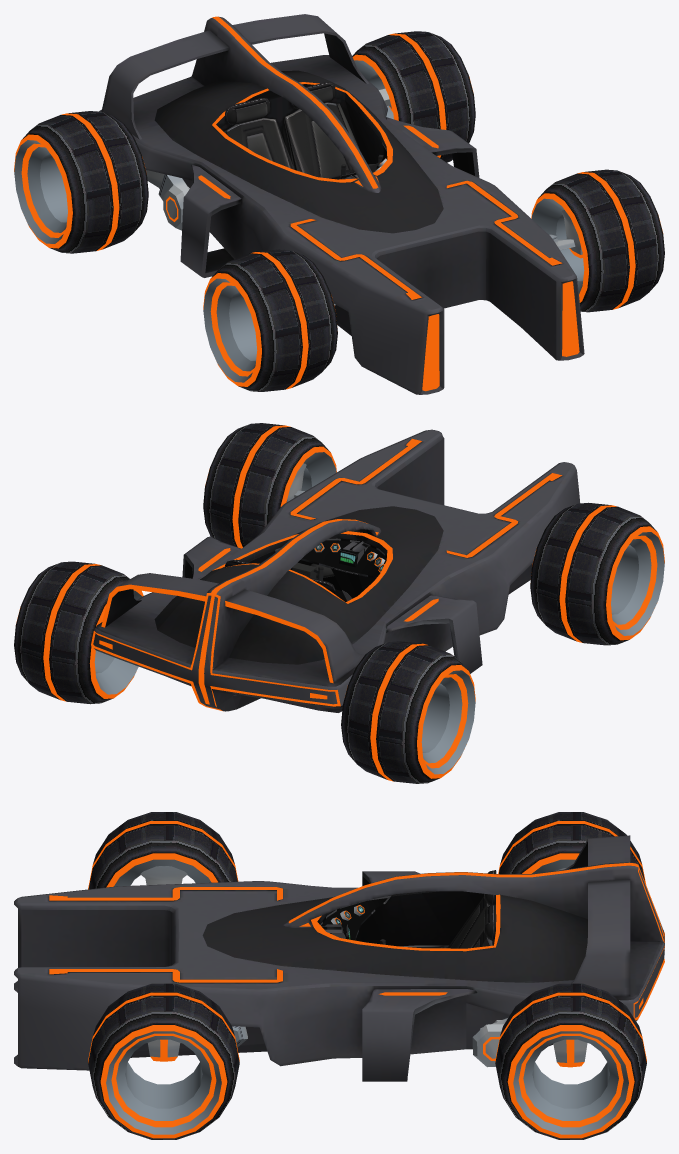
Rendered from runner04.glb.
3 views of the same model, one above another, from view 1: azimuth 30°, elevation 25°; view 2: azimuth 150°, elevation 25°; view 3: azimuth 270°, elevation 25° (orthographic). The views are drawn at different scales.
Parts seen in each view (by area): view 1: Body, WheelFR, WheelBR, WheelFL, WheelBL, RearSusp.r, FrontSusp.l; view 2: Body, WheelBR, WheelFR, WheelBL, WheelFL; view 3: Body, WheelBL, WheelFL, WheelFR, WheelBR, RearSusp.l, FrontSusp.l, FrontSusp.r.
Boxes of the visible parts, box(x1,y1,x2,y2) form: Body: box(99, 14, 584, 394); WheelFR: box(203, 249, 337, 391); WheelBR: box(14, 111, 148, 253); WheelFL: box(531, 169, 664, 312); WheelBL: box(352, 31, 475, 162); RearSusp.r: box(146, 170, 189, 230); FrontSusp.l: box(549, 210, 582, 258); Body: box(91, 429, 579, 712); WheelBR: box(341, 641, 475, 783); WheelFR: box(530, 502, 664, 645); WheelBL: box(14, 561, 143, 704); WheelFL: box(203, 423, 336, 548); Body: box(14, 835, 664, 1081); WheelBL: box(495, 983, 646, 1139); WheelFL: box(88, 983, 239, 1139); WheelFR: box(88, 812, 238, 889); WheelBR: box(498, 812, 646, 884); RearSusp.l: box(472, 1018, 587, 1067); FrontSusp.l: box(148, 1026, 247, 1061); FrontSusp.r: box(140, 866, 187, 885).
Bounding box in the file's own units: 0.3801 × 0.149 × 0.4886.
Materials: 8 (6 with a texture image).
